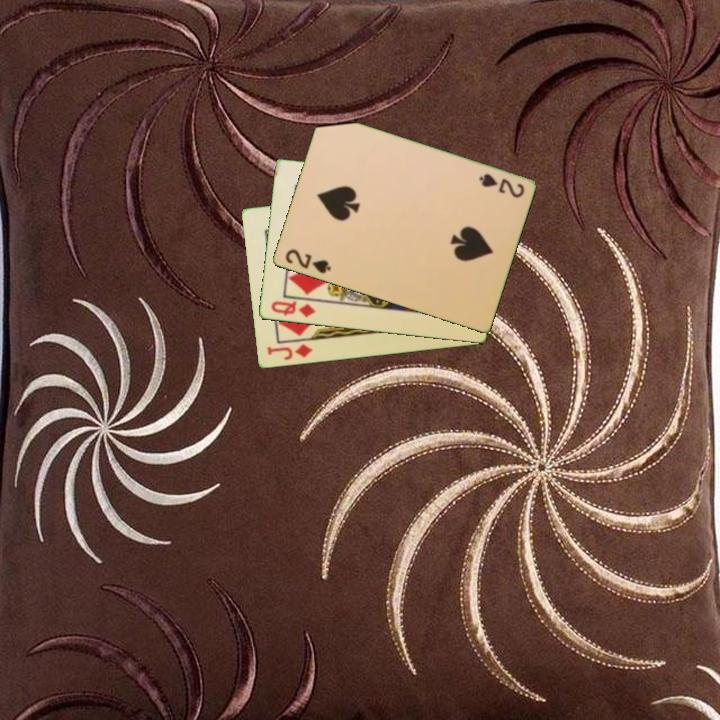2s: (281, 246, 334, 277), (475, 170, 527, 201)
Jd: (263, 341, 315, 363)
Qd: (267, 297, 318, 321)
